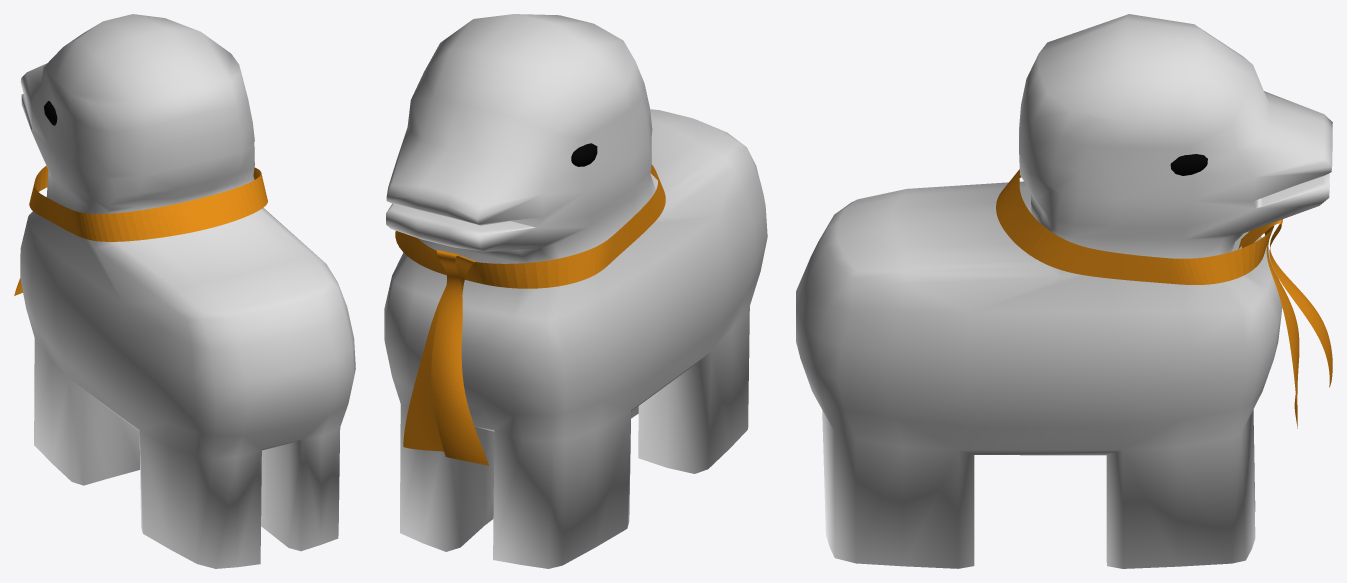
The model's file is mommello.gltf.
3 renders of one model, left to right at view 1: azimuth 30°, elevation 25°; view 2: azimuth 150°, elevation 25°; view 3: azimuth 270°, elevation 25°, orthographic. The views are drawn at different scales.
Visible parts, largest first — view 1: Cube, Surface; view 2: Cube, Surface; view 3: Cube, Surface.
Part boxes in pixels (<box>): Cube: <box>20,14,355,568</box>; Surface: <box>14,165,267,295</box>; Cube: <box>384,14,767,568</box>; Surface: <box>395,164,665,465</box>; Cube: <box>796,14,1332,568</box>; Surface: <box>996,169,1332,428</box>.
Size of the model in its own units: 3.08 by 6.26 by 6.12.
